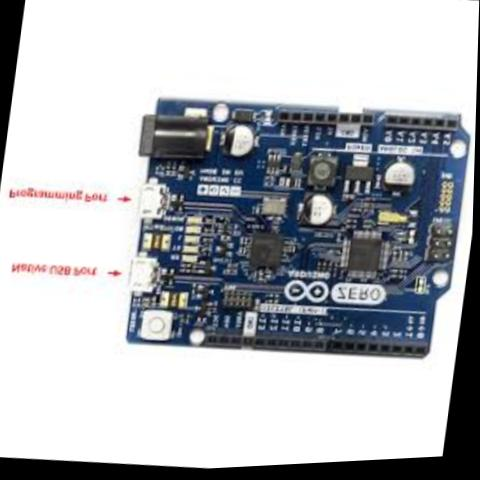Arduino-Zero: (102, 72, 478, 398)
